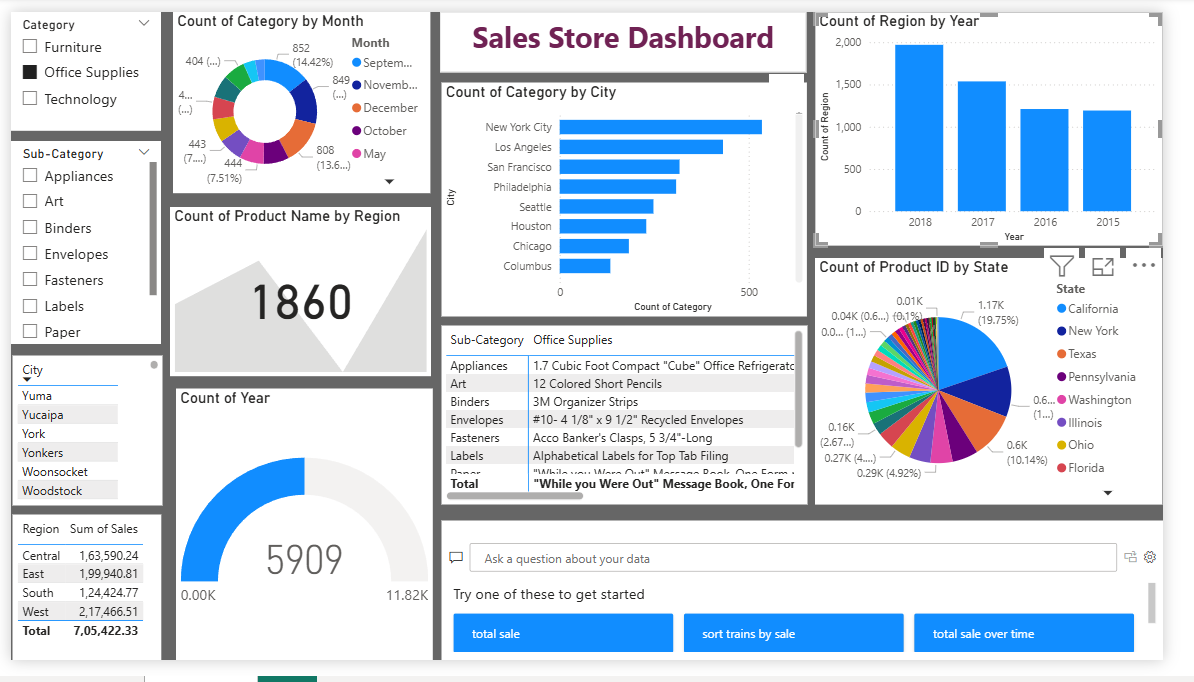

The page's visual inventory and layout, read from the dashboard file:
{"tool":"powerbi","page":{"name":"Page 1","canvas":[1280,720],"ordinal":0},"visuals":[{"type":"slicer","fields":{"Values":["train.Category"]},"box":[0,0,166.7,131.7],"z":0},{"type":"tableEx","fields":{"Values":["train.City"]},"box":[1.7,381.7,166.7,166.7],"z":1000},{"type":"textbox","box":[477,0,407,67],"z":2000},{"type":"clusteredBarChart","fields":{"Category":["train.City"],"Y":["CountNonNull(train.Category)"]},"box":[478,78,406,260],"z":3000},{"type":"donutChart","fields":{"Category":["train.Month"],"Y":["CountNonNull(train.Category)"]},"box":[180,0,286.2,201.2],"z":4000},{"type":"kpi","fields":{"Indicator":["CountNonNull(train.Product Name)"],"TrendLine":["train.Region"]},"box":[176,216,290,188],"z":5000},{"type":"lineStackedColumnComboChart","fields":{"Category":["train.Year"],"Y":["CountNonNull(train.Region)"]},"box":[894,0,386,260],"z":6000},{"type":"slicer","fields":{"Values":["train.Sub-Category"]},"box":[0,143.3,166.7,225],"z":7000},{"type":"tableEx","fields":{"Values":["train.Region","Sum(train.Sales)"]},"box":[1.7,558.3,165,161.7],"z":8000},{"type":"qnaVisual","box":[477.5,565,802.5,155],"z":9000},{"type":"pieChart","fields":{"Category":["train.State"],"Y":["CountNonNull(train.Product ID)"]},"box":[893.8,273.8,386.2,273.8],"z":10000},{"type":"pivotTable","fields":{"Values":["Min(train.Product Name)"],"Rows":["train.Sub-Category"],"Columns":["train.Category"]},"box":[477.5,348.8,406.2,198.8],"z":11000},{"type":"gauge","fields":{"Y":["CountNonNull(train.Year)"]},"box":[182.5,417.5,285,302.5],"z":12000}]}

Visuals, with their boxes in screenshot pixels (x1, y1, x2, y2):
slicer - train.Category: select_region(16, 12, 163, 129)
tableEx - train.City: select_region(17, 351, 165, 499)
textbox: select_region(439, 12, 800, 72)
clusteredBarChart - train.City x CountNonNull(train.Category): select_region(440, 82, 800, 312)
donutChart - train.Month x CountNonNull(train.Category): select_region(175, 12, 429, 191)
kpi - CountNonNull(train.Product Name) x train.Region: select_region(172, 204, 429, 371)
lineStackedColumnComboChart - train.Year x CountNonNull(train.Region): select_region(809, 12, 1151, 243)
slicer - train.Sub-Category: select_region(16, 140, 163, 339)
tableEx - train.Region x Sum(train.Sales): select_region(17, 508, 163, 651)
qnaVisual: select_region(439, 514, 1151, 651)
pieChart - train.State x CountNonNull(train.Product ID): select_region(809, 255, 1151, 498)
pivotTable - Min(train.Product Name) x train.Sub-Category: select_region(439, 322, 800, 498)
gauge - CountNonNull(train.Year): select_region(177, 383, 430, 651)
